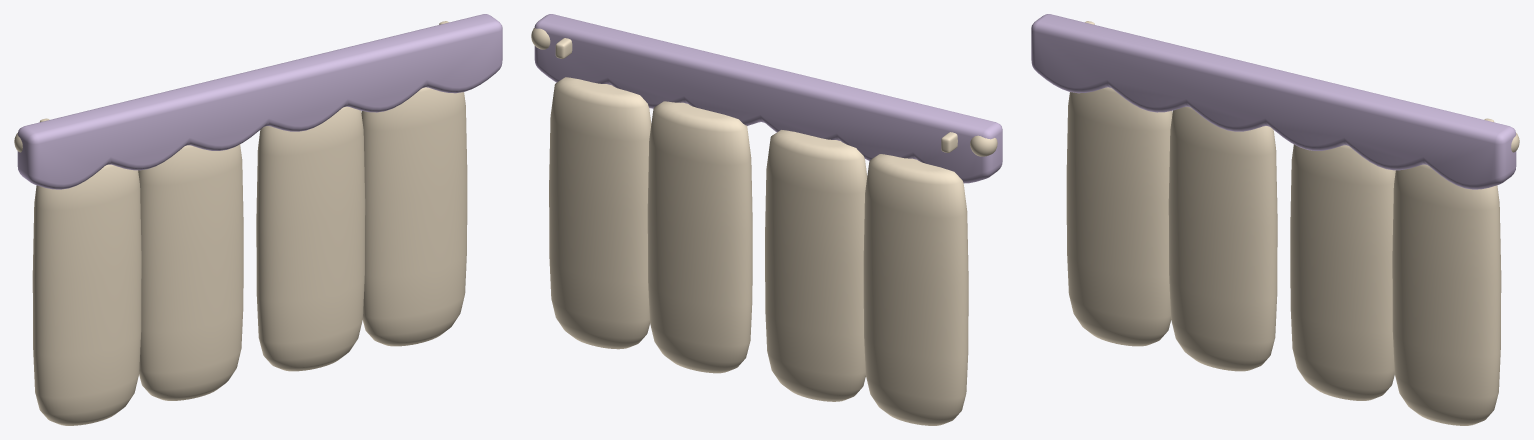
File: curtains_c.glb
3 views of the same model, side by side, from view 1: azimuth 30°, elevation 25°; view 2: azimuth 150°, elevation 25°; view 3: azimuth 330°, elevation 25° (orthographic). The views are drawn at different scales.
Visible parts, largest first — view 1: body; view 2: body; view 3: body.
Boxes of the visible parts, x1,y1,x2,y2 form: body: (14,14,502,425); body: (531,14,1002,425); body: (1031,14,1519,425).
Size of the model in its own units: 1.92 by 1.2 by 0.2288.
